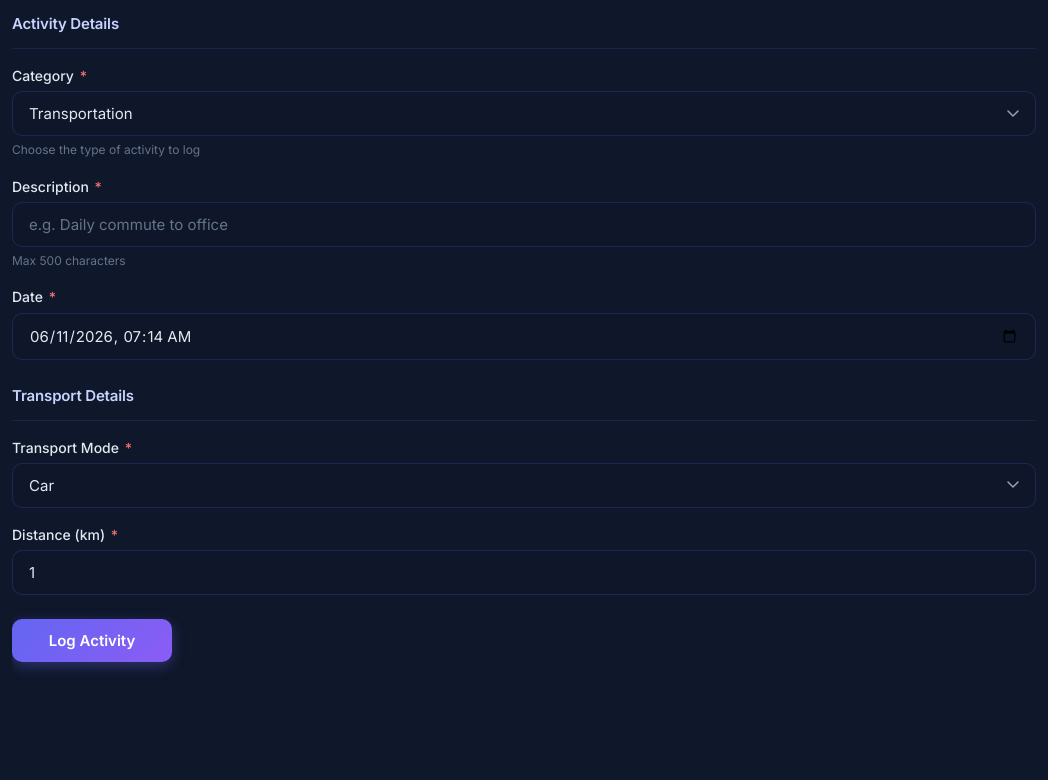
Test: LogActivityForm › form validation › shows validation error when description is empty on submit
# Click submit without filling any fields
Click the button with aria-label "Log activity entry". click: (92, 641)
box: left=12, top=619, right=172, bottom=662
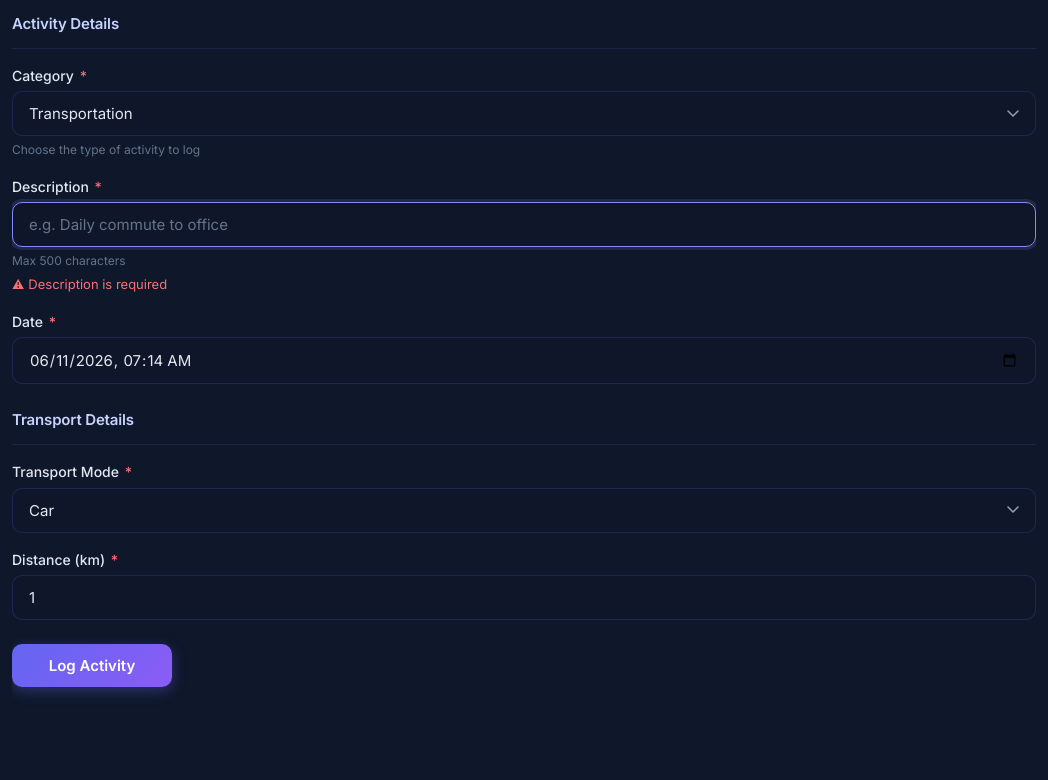
Expected: the message "Description is required" is shown, left=28, top=276, right=167, bottom=292
